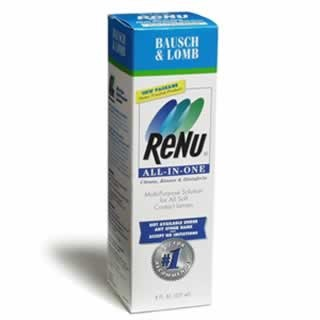grozi_1: (106, 9, 216, 314)
